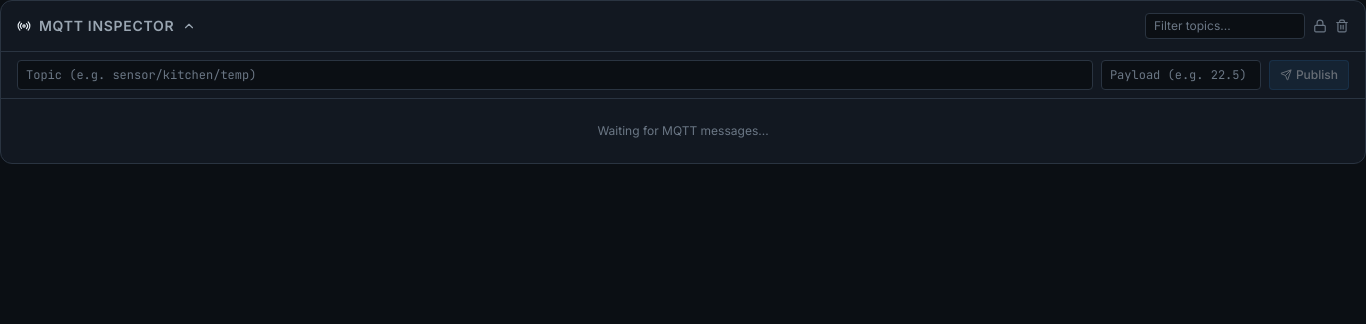
Scenario: MqttInspector › private topics › a non-admin can add but sees no remove control
Click the button titled "Manage private topics" at [1320, 26], box x1=1313 y1=19 x2=1327 y2=33
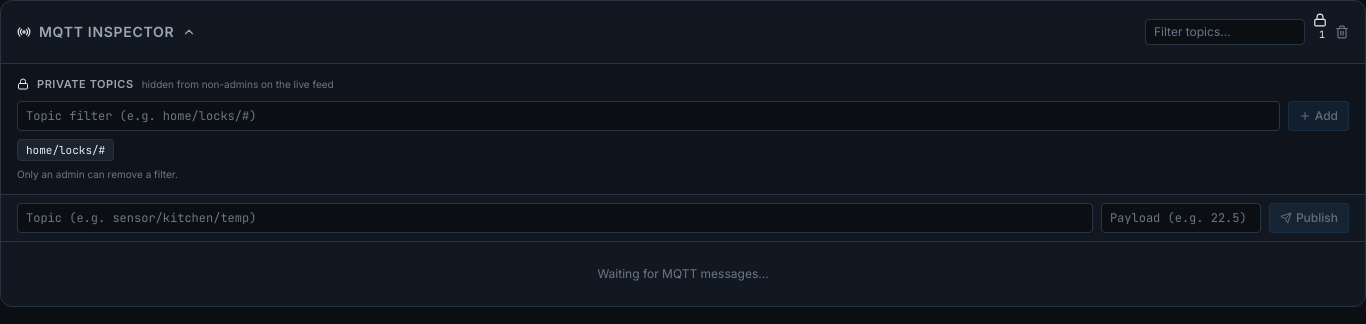
Result: the field with placeholder "Topic filter (e.g. home/locks/#)" is shown at x1=17 y1=100 x2=1280 y2=130
Result: the text "Only an admin can remove a filter." is shown at x1=17 y1=168 x2=178 y2=180
